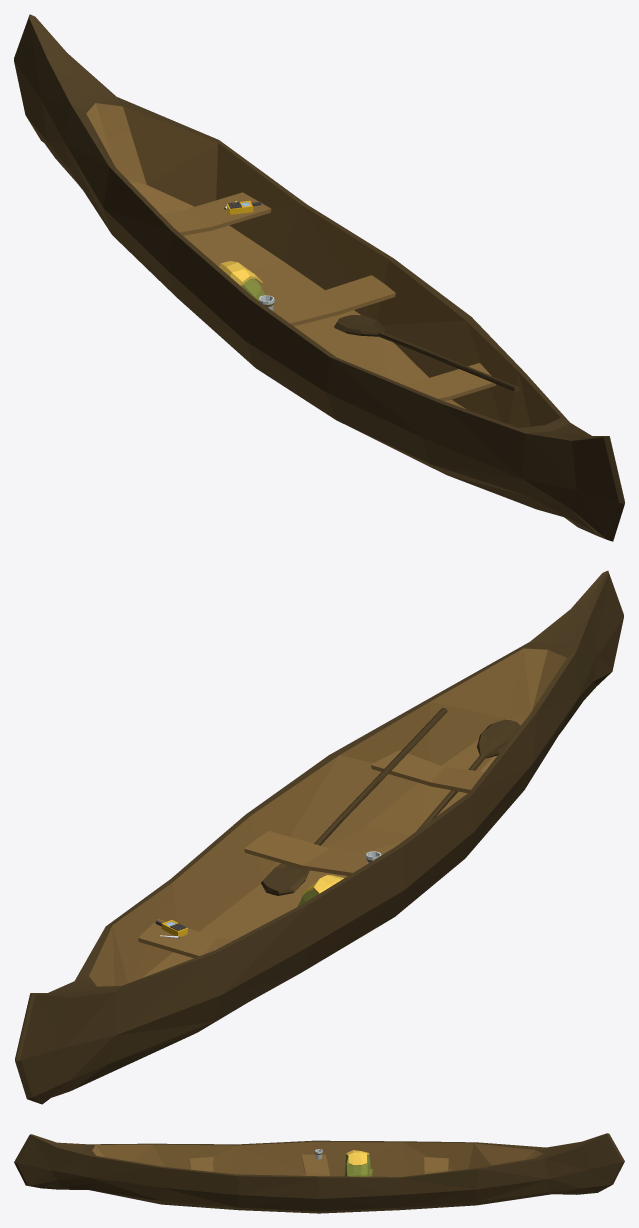
File: Canoe_Crooked.fbx
3 renders of one model, top to bottom at view 1: azimuth 30°, elevation 25°; view 2: azimuth 150°, elevation 25°; view 3: azimuth 270°, elevation 25°, orthographic. The views are drawn at different scales.
Visible parts, largest first — view 1: Canoe_Crooked, Pedle1, Backpack; view 2: Canoe_Crooked, Pedle1, Pedle2; view 3: Canoe_Crooked, Backpack.
Boxes of the visible parts, bbox=[...] form: Canoe_Crooked: bbox=[14, 14, 624, 541]; Pedle1: bbox=[334, 315, 519, 391]; Backpack: bbox=[218, 261, 264, 300]; Canoe_Crooked: bbox=[15, 570, 623, 1104]; Pedle1: bbox=[261, 707, 447, 895]; Pedle2: bbox=[416, 719, 520, 831]; Canoe_Crooked: bbox=[14, 1133, 624, 1213]; Backpack: bbox=[344, 1150, 372, 1176].
Bounding box in the file's own units: 0.0216 × 0.0184 × 0.1443.
Materials: 1 (1 with a texture image).
